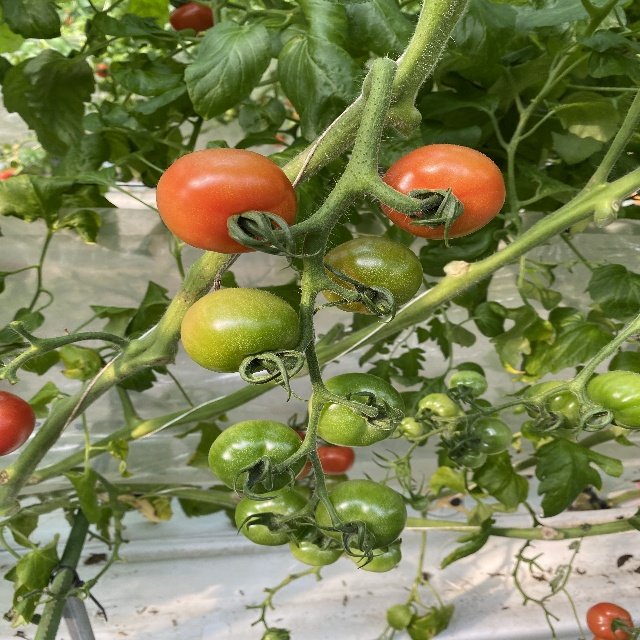l_fully_ripened: (154, 147, 300, 254), (377, 143, 505, 242), (0, 391, 35, 457), (585, 602, 634, 639)
l_green: (180, 288, 300, 373), (318, 237, 424, 316), (208, 419, 309, 494), (308, 373, 405, 448), (314, 479, 408, 551), (234, 487, 315, 547), (522, 379, 595, 429), (288, 511, 346, 566), (585, 371, 639, 430), (344, 539, 402, 572), (468, 417, 514, 455), (417, 393, 461, 426), (449, 370, 487, 400), (455, 442, 488, 469)
